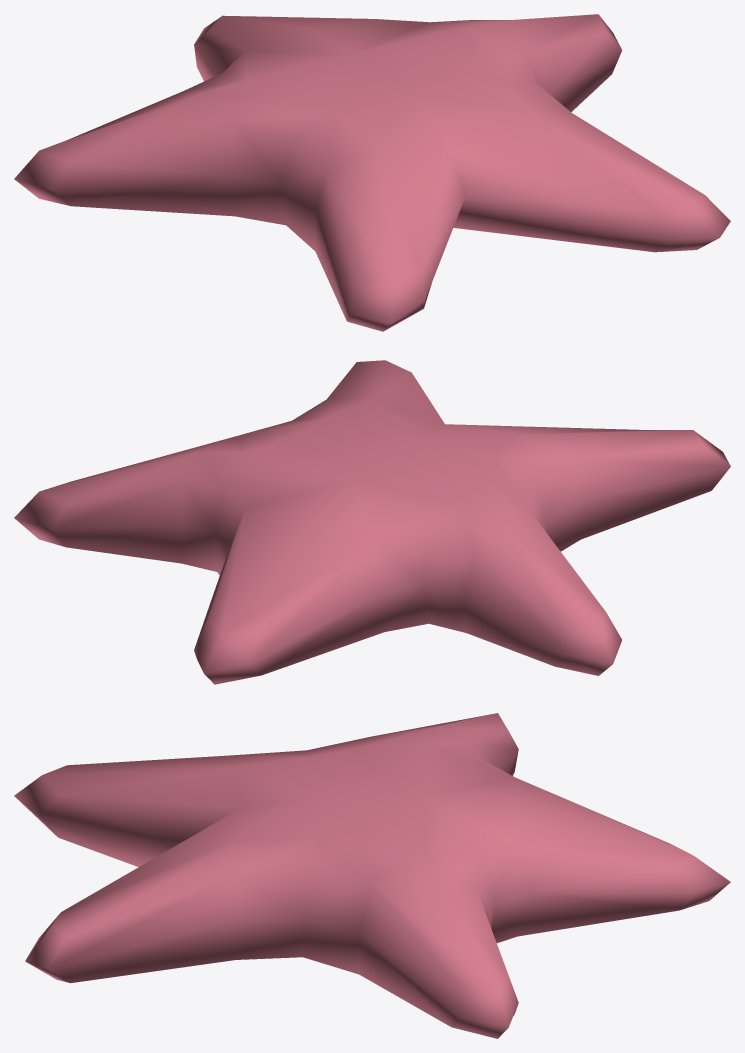
The model's file is Zeester 1.fbx.
3 renders of one model, top to bottom at view 1: azimuth 30°, elevation 25°; view 2: azimuth 150°, elevation 25°; view 3: azimuth 270°, elevation 25°, orthographic.
Parts seen in each view (by area): view 1: Cube; view 2: Cube; view 3: Cube.
Part boxes in pixels (left/top/right/bottom): Cube: left=14, top=14, right=730, bottom=331; Cube: left=14, top=360, right=730, bottom=684; Cube: left=14, top=713, right=730, bottom=1038.
Bounding box in the file's own units: 467 × 81.26 × 476.
